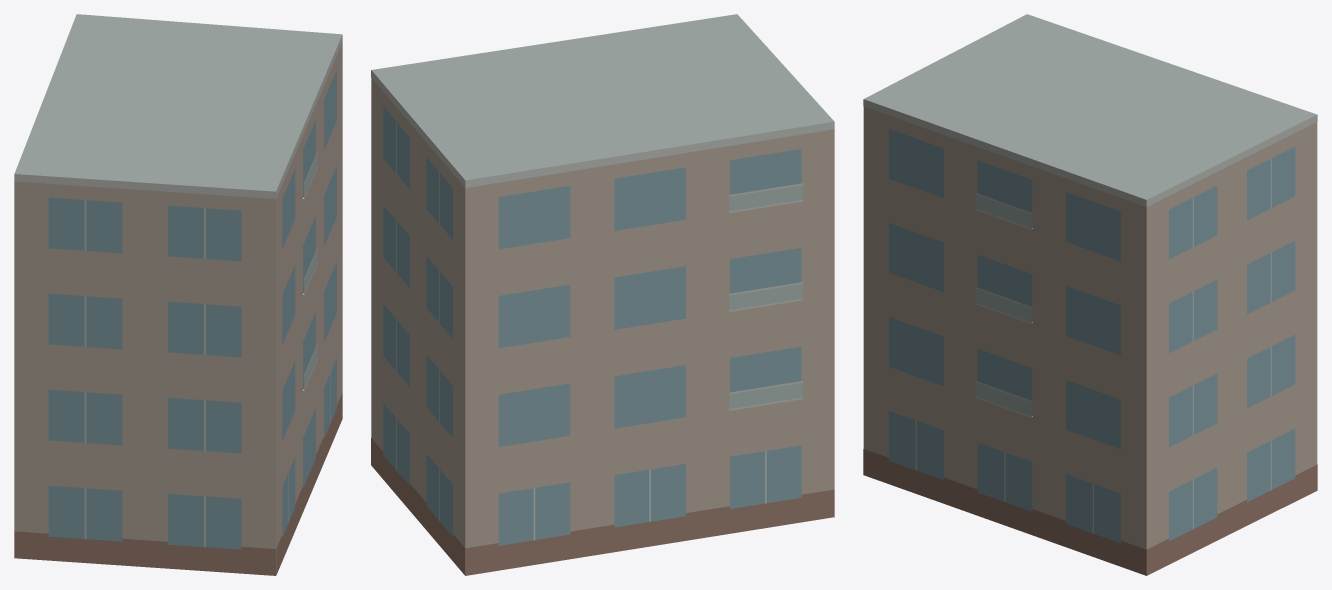
The model's file is survey-upis-32637081.glb.
3 renders of one model, left to right at view 1: azimuth 30°, elevation 25°; view 2: azimuth 150°, elevation 25°; view 3: azimuth 270°, elevation 25°, orthographic. The views are drawn at different scales.
Parts seen in each view (by area): view 1: survey-upis-32637081.tmp; view 2: survey-upis-32637081.tmp; view 3: survey-upis-32637081.tmp.
Part boxes in pixels (x1,y1,x2,y2): survey-upis-32637081.tmp: (14,14,342,575); survey-upis-32637081.tmp: (371,14,834,575); survey-upis-32637081.tmp: (863,14,1317,575).
Size of the model in its own units: 13.47 by 12.7 by 13.9.
